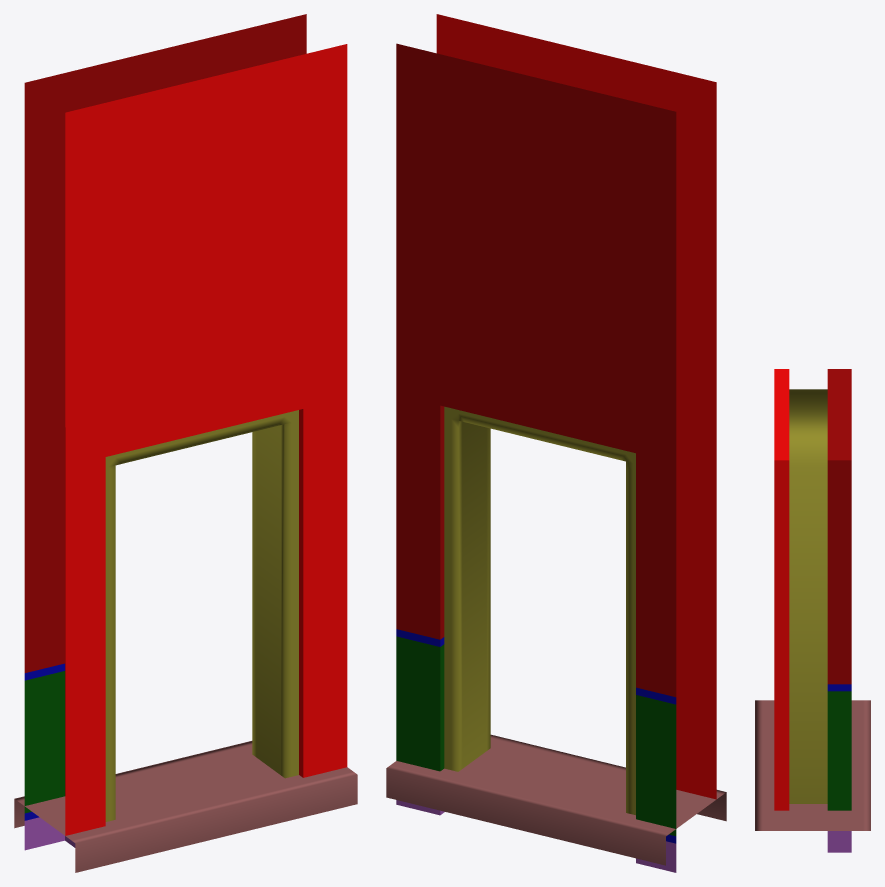
File: SM_ExttoIntC.fbx
3 views of the same model, side by side, from view 1: azimuth 30°, elevation 25°; view 2: azimuth 150°, elevation 25°; view 3: azimuth 270°, elevation 25° (orthographic). The views are drawn at different scales.
Parts seen in each view (by area): view 1: SM_ExttoIntC; view 2: SM_ExttoIntC; view 3: SM_ExttoIntC.
Boxes of the visible parts, x1=… form: SM_ExttoIntC: x1=14, y1=14, x2=357, y2=872; SM_ExttoIntC: x1=386, y1=14, x2=726, y2=872; SM_ExttoIntC: x1=755, y1=369, x2=870, y2=852.
Size of the model in its own units: 200 by 520 by 75.
